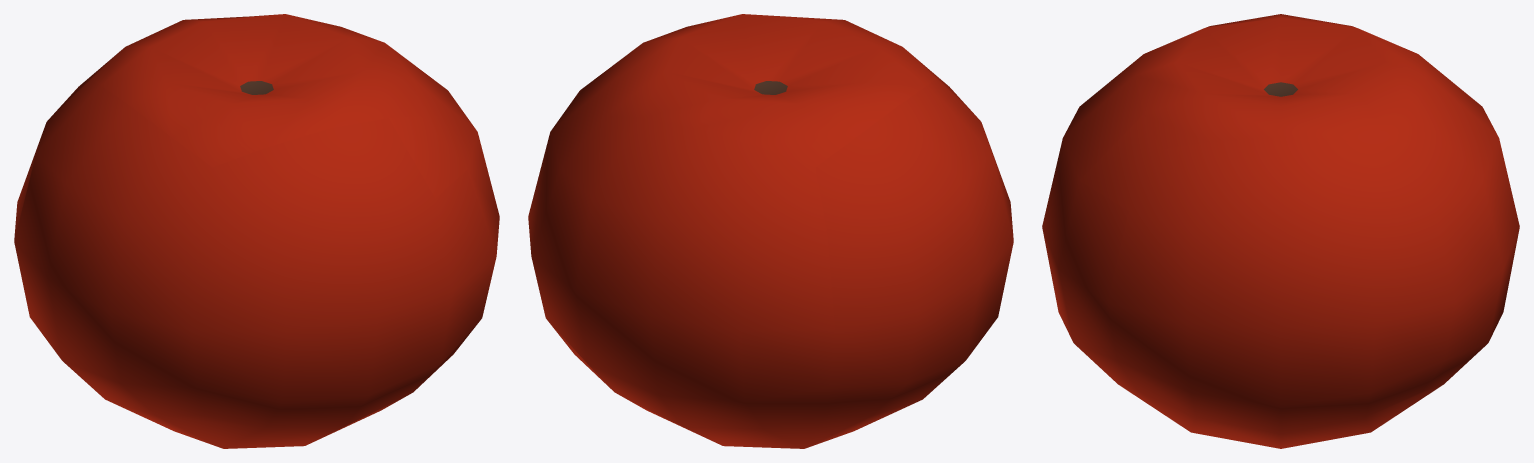
Rendered from Tomato.glb.
3 renders of one model, left to right at view 1: azimuth 30°, elevation 25°; view 2: azimuth 150°, elevation 25°; view 3: azimuth 270°, elevation 25°, orthographic.
Parts seen in each view (by area): view 1: Tomato; view 2: Tomato; view 3: Tomato.
Boxes of the visible parts, x1,y1,x2,y2 form: Tomato: (14, 14, 499, 448); Tomato: (528, 14, 1013, 448); Tomato: (1042, 14, 1519, 448).
Size of the model in its own units: 0.084 by 0.0675 by 0.084.
1 material, 1 textured.
